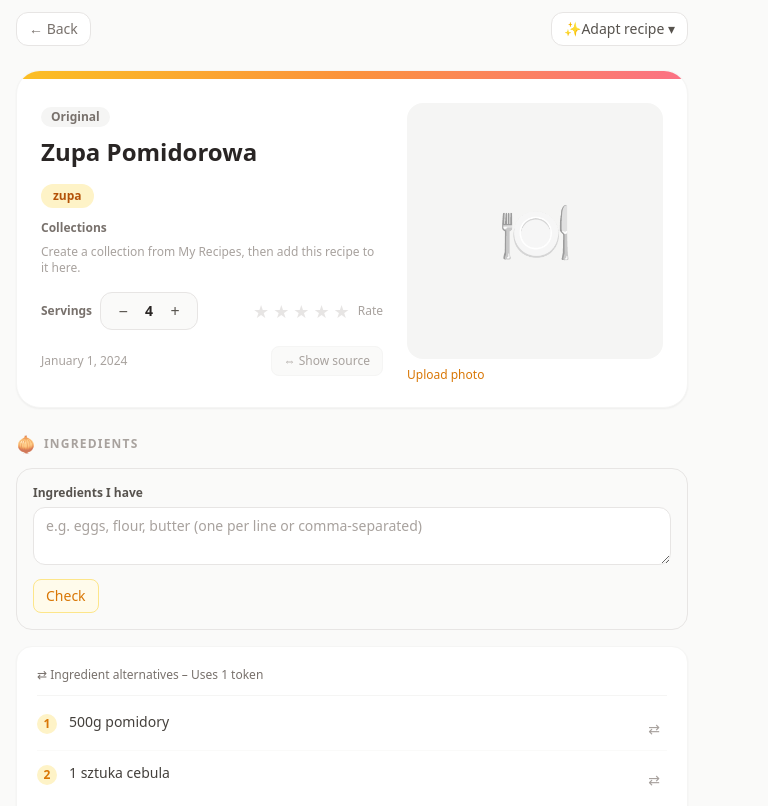
RecipeDetailPage — return to original › "Back to original" button is visible when viewing a variant
The width and height of the screenshot is (768, 806).
Expected: the heading "Zupa Pomidorowa" is shown, x1=41 y1=135 x2=257 y2=168
Click the button "✨Adapt recipe ▾" at x=620, y=29, box x1=551 y1=12 x2=688 y2=46
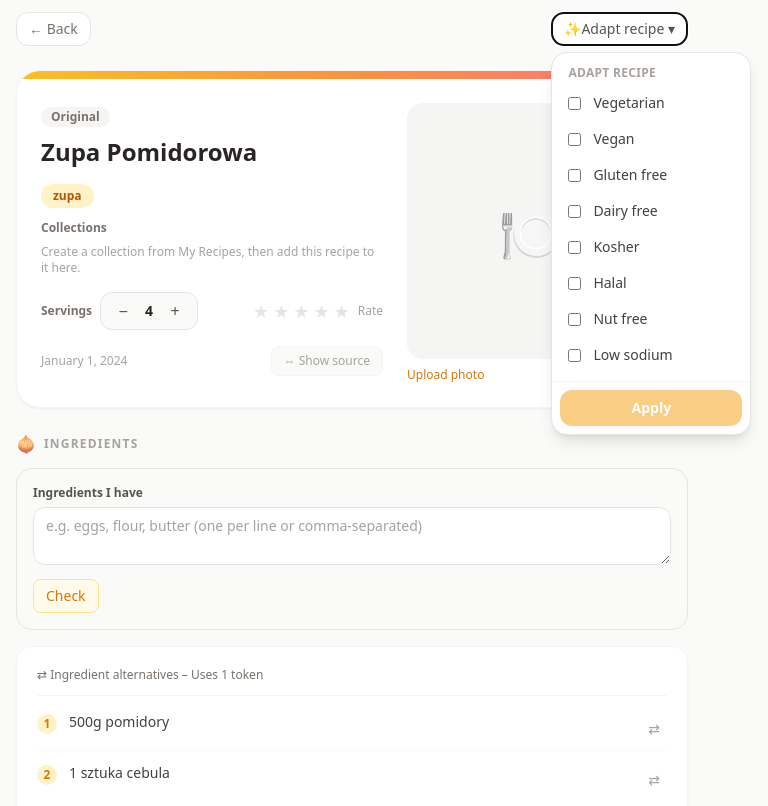
Click the checkbox labelled "Vegan" at x=575, y=139, box x1=568 y1=132 x2=581 y2=146
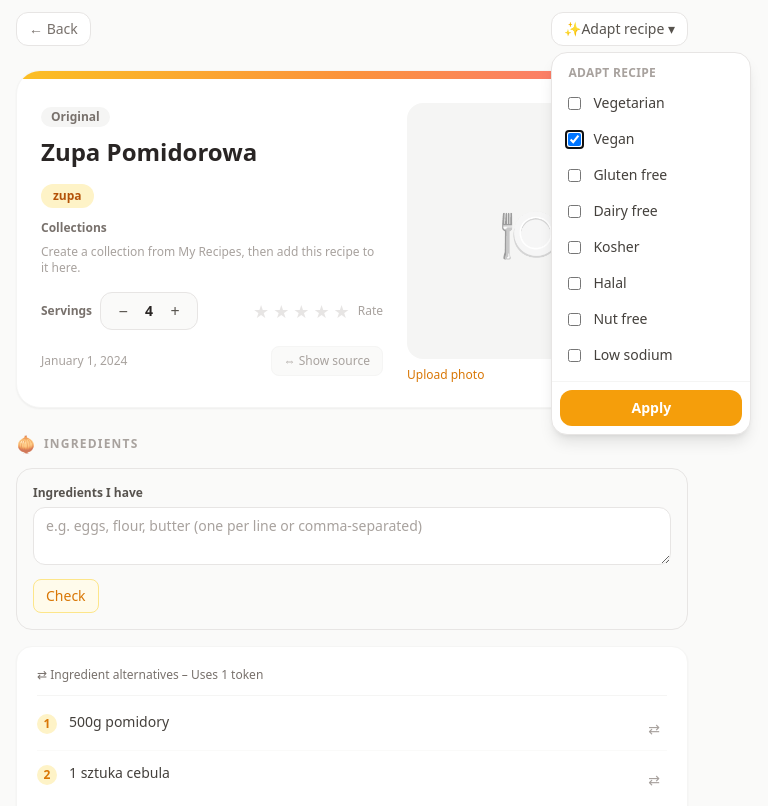
Click the button "Apply" at x=651, y=408, box x1=560 y1=390 x2=742 y2=426
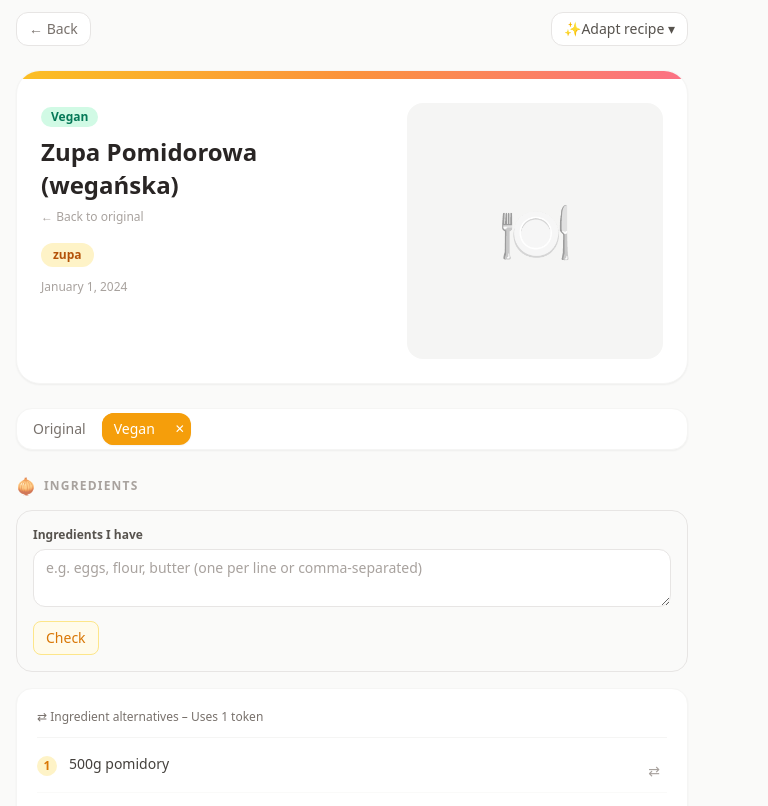
Expected: the button "← Back to original" is shown, x1=41 y1=209 x2=144 y2=225
